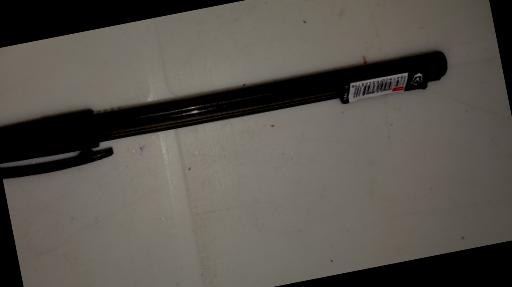pen: (0, 40, 454, 178)
